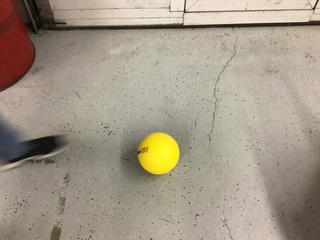power_cell: (135, 129, 182, 176)
